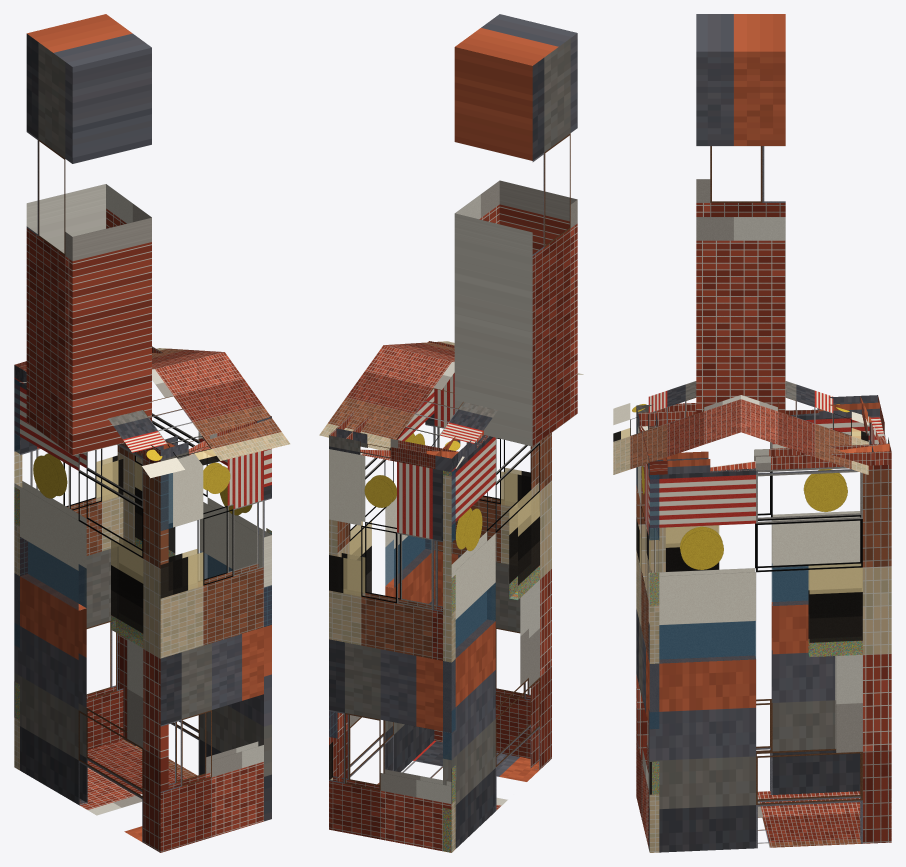
3 views of the same model, side by side, from view 1: azimuth 30°, elevation 25°; view 2: azimuth 150°, elevation 25°; view 3: azimuth 270°, elevation 25° (orthographic). The views are drawn at different scales.
Visible parts, largest first — view 1: 734333598__chimney_0_xb, 734333598__wall_2_xb, 734333598__wall_3_xb, 734333598__wall_0_xb, 734333598_roof_-1_xb, 734333598__wall_1_xb, 734333598__wall_2_xf, 734333598__base, 734333598__wall_3_xf, 734333598__wall_1_xf, 734333598__wall_0_xf, 734333598__cornice_3 (+1 smaller); view 2: 734333598__chimney_0_xb, 734333598__wall_1_xb, 734333598__wall_2_xb, 734333598__wall_0_xb, 734333598_roof_1_xb, 734333598__wall_3_xb, 734333598__wall_2_xf, 734333598__wall_0_xf, 734333598__cornice_1, 734333598__wall_1_xf, 734333598__base, 734333598__wall_3_xf (+2 smaller); view 3: 734333598__wall_0_xb, 734333598__chimney_0_xb, 734333598__wall_2_xb, 734333598__wall_0_xf, 734333598__wall_3_xb, 734333598_roof_-1_xb, 734333598_roof_1_xb, 734333598__base, 734333598__cornice_0, 734333598__wall_2_xf, 734333598__wall_3_xf, 734333598__cornice_2.
Part boxes in pixels (left/top/right/bottom): 734333598__chimney_0_xb: left=26, top=14, right=151, bottom=455; 734333598__wall_2_xb: left=14, top=379, right=168, bottom=852; 734333598__wall_3_xb: left=160, top=450, right=271, bottom=852; 734333598__wall_0_xb: left=117, top=413, right=271, bottom=821; 734333598_roof_-1_xb: left=108, top=352, right=290, bottom=478; 734333598__wall_1_xb: left=14, top=379, right=123, bottom=770; 734333598__wall_2_xf: left=20, top=537, right=142, bottom=647; 734333598__base: left=79, top=739, right=197, bottom=841; 734333598__wall_3_xf: left=161, top=473, right=271, bottom=597; 734333598__wall_1_xf: left=14, top=379, right=122, bottom=719; 734333598__wall_0_xf: left=135, top=462, right=271, bottom=626; 734333598__cornice_3: left=155, top=421, right=256, bottom=461; 734333598__chimney_0_xb: left=454, top=14, right=577, bottom=446; 734333598__wall_1_xb: left=329, top=449, right=455, bottom=852; 734333598__wall_2_xb: left=443, top=433, right=551, bottom=852; 734333598__wall_0_xb: left=329, top=388, right=434, bottom=781; 734333598_roof_1_xb: left=319, top=345, right=497, bottom=468; 734333598__wall_3_xb: left=425, top=373, right=530, bottom=758; 734333598__wall_2_xf: left=443, top=471, right=539, bottom=852; 734333598__wall_0_xf: left=329, top=521, right=431, bottom=737; 734333598__cornice_1: left=329, top=428, right=458, bottom=471; 734333598__wall_1_xf: left=329, top=469, right=455, bottom=802; 734333598__base: left=377, top=740, right=539, bottom=810; 734333598__wall_3_xf: left=501, top=468, right=529, bottom=505; 734333598__wall_0_xb: left=648, top=464, right=891, bottom=852; 734333598__chimney_0_xb: left=696, top=14, right=785, bottom=413; 734333598__wall_2_xb: left=636, top=413, right=878, bottom=794; 734333598__wall_0_xf: left=649, top=542, right=862, bottom=663; 734333598__wall_3_xb: left=636, top=420, right=659, bottom=852; 734333598_roof_-1_xb: left=613, top=381, right=740, bottom=474; 734333598_roof_1_xb: left=741, top=381, right=868, bottom=474; 734333598__base: left=757, top=791, right=861, bottom=847; 734333598__cornice_0: left=648, top=443, right=891, bottom=474; 734333598__wall_2_xf: left=666, top=484, right=846, bottom=605; 734333598__wall_3_xf: left=636, top=421, right=658, bottom=794; 734333598__cornice_2: left=638, top=395, right=879, bottom=426.
Bounding box in the file's own units: 0.3307 × 1.4 × 0.4668.
1 material, 1 textured.
